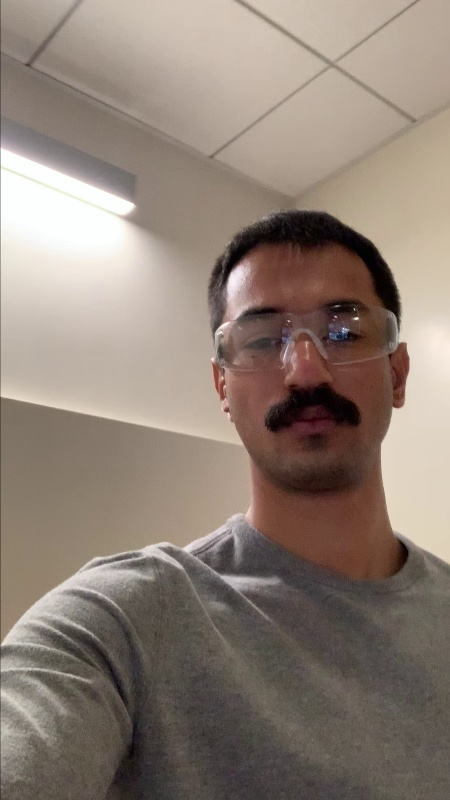glasses: (210, 297, 401, 382)
